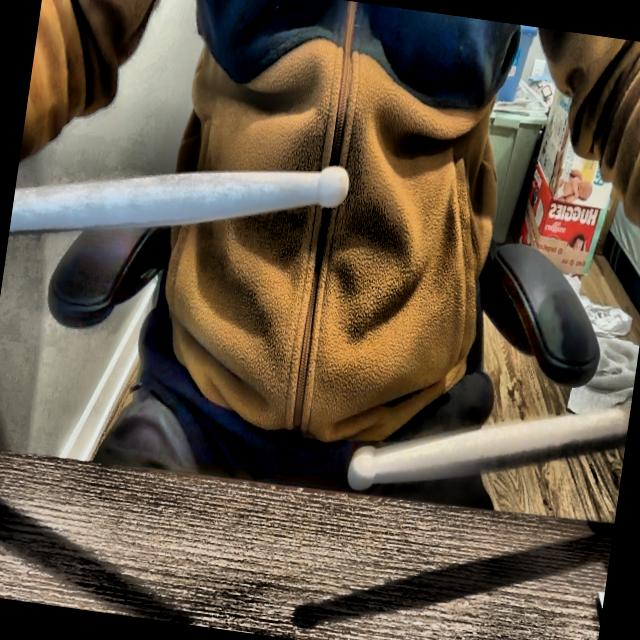Drumstick-Heads: (314, 146, 354, 220), (341, 438, 377, 502)
